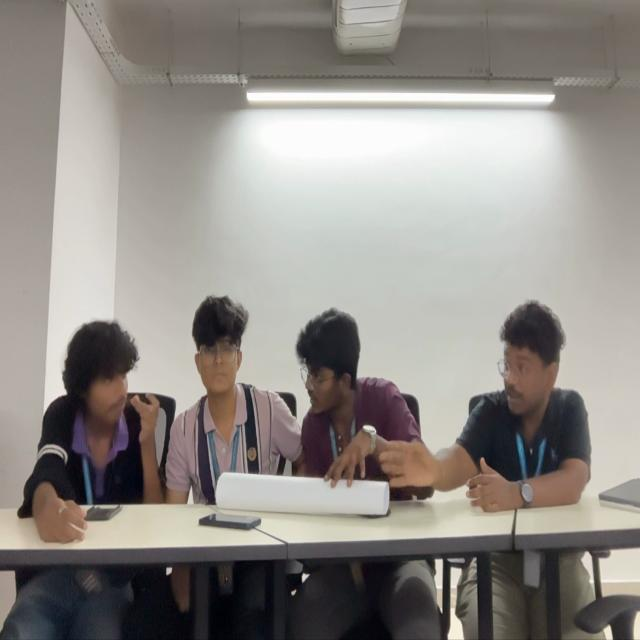Isolated: (446, 298, 591, 499)
socializing: (20, 296, 434, 502)
